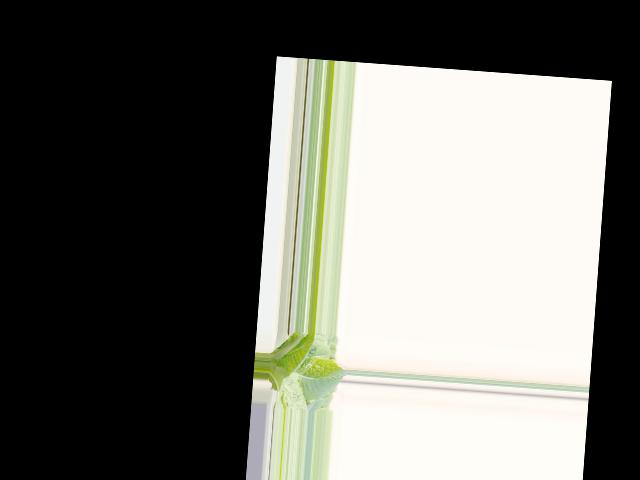lettuce: (266, 331, 342, 405)
